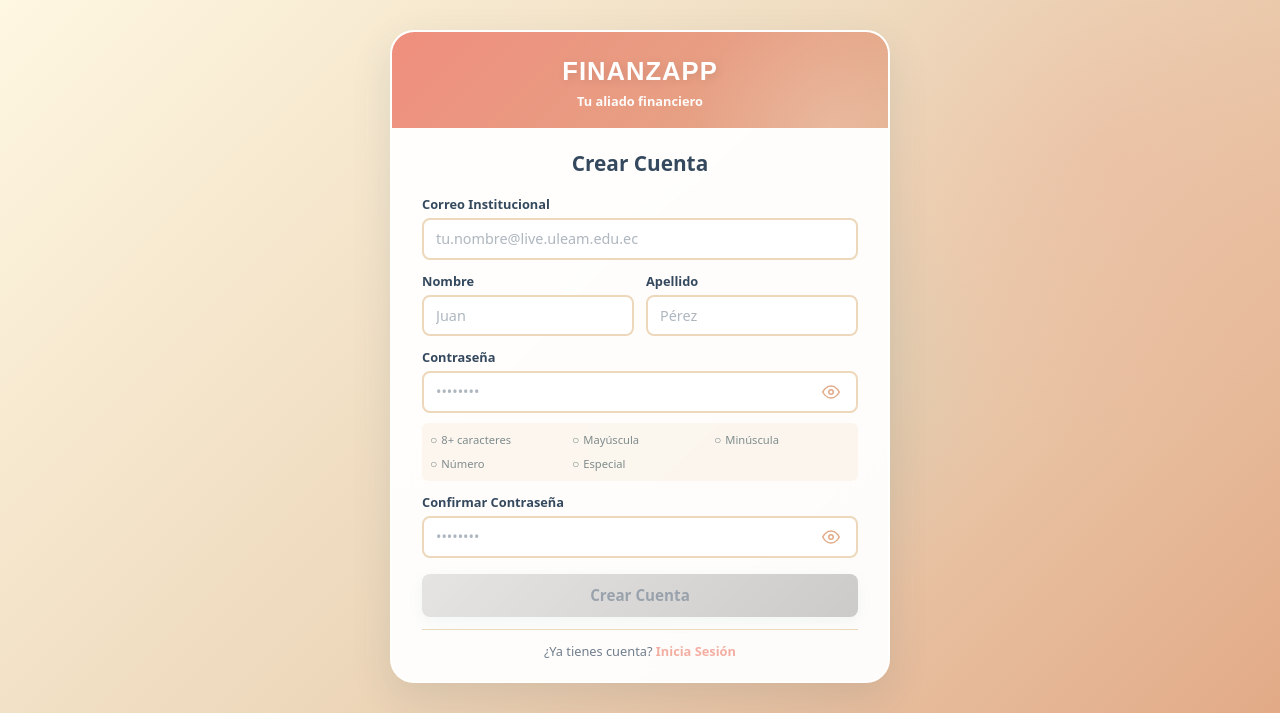
Register.vue › Muestra mensaje de éxito cuando las contraseñas coinciden
Type "David123#" into the password field labelled "Contraseña" at (640, 392), box [422, 372, 858, 413]
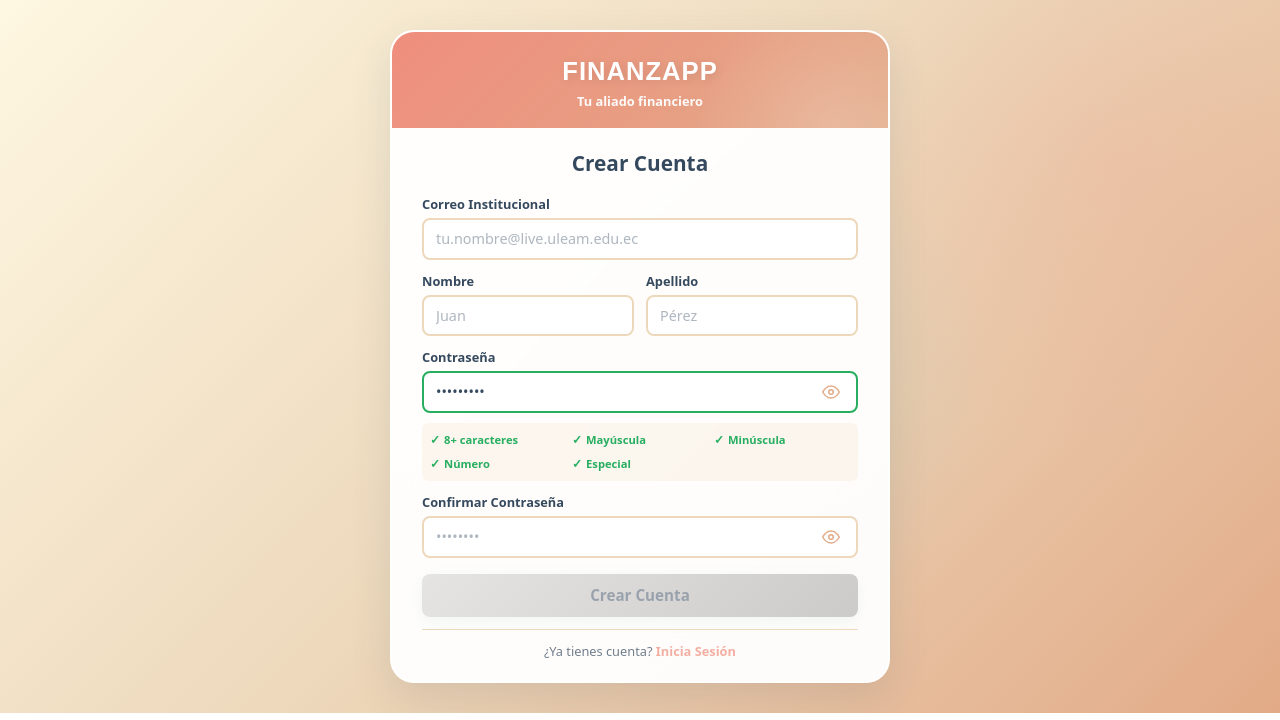
Type "David123#" into the password field with id "confirmPassword" at (640, 537), box [422, 516, 858, 558]
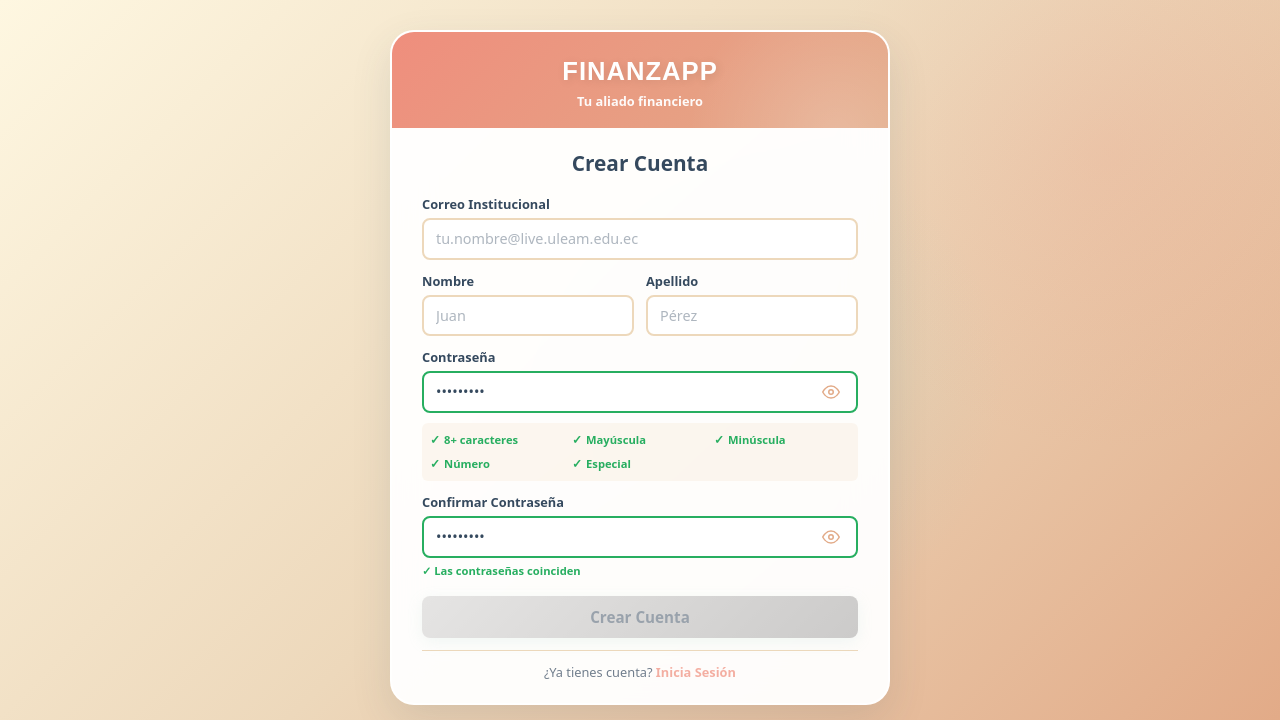
Check: the text "Las contraseñas coinciden" is shown, box [422, 563, 581, 578]
